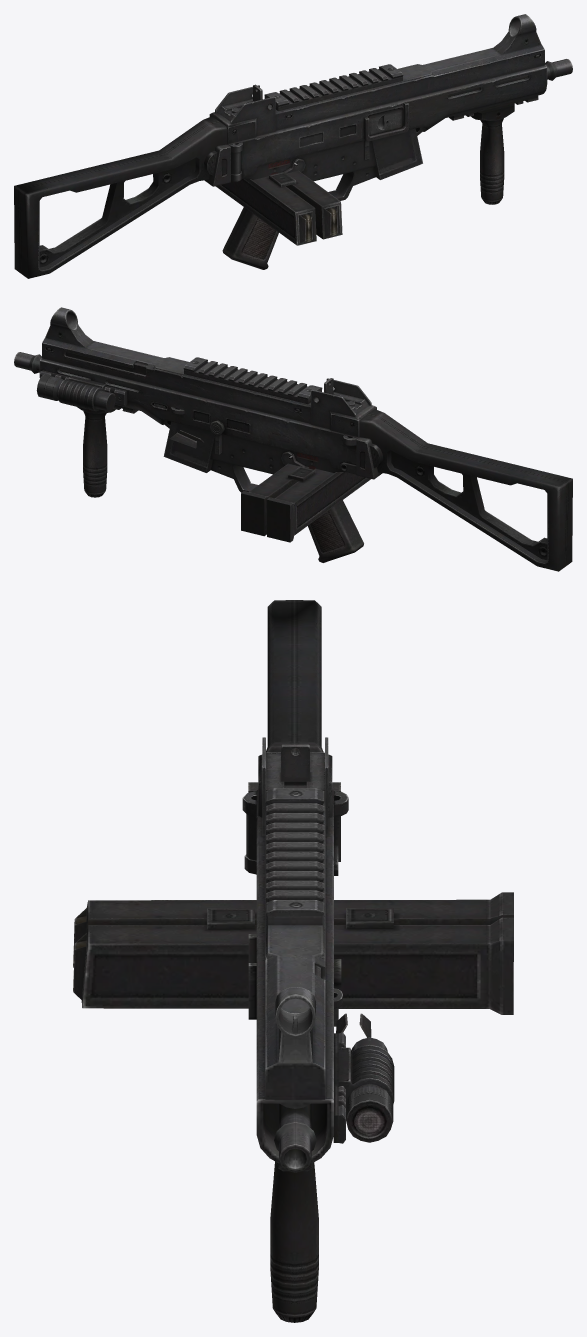
The model's file is UMP45_DualMag.obj.
3 renders of one model, top to bottom at view 1: azimuth 30°, elevation 25°; view 2: azimuth 150°, elevation 25°; view 3: azimuth 270°, elevation 25°, orthographic. The views are drawn at different scales.
Parts seen in each view (by area): view 1: Model_UMP45, Model_Bullet01,Model_Bullet02,Model_Magazine; view 2: Model_UMP45, Model_Bullet01,Model_Bullet02,Model_Magazine; view 3: Model_UMP45, Model_Bullet01,Model_Bullet02,Model_Magazine.
Part boxes in pixels (box(x1,y1,x2,y2)): Model_UMP45: box(14, 14, 572, 278); Model_Bullet01,Model_Bullet02,Model_Magazine: box(216, 170, 342, 245); Model_UMP45: box(14, 307, 572, 571); Model_Bullet01,Model_Bullet02,Model_Magazine: box(241, 463, 370, 542); Model_UMP45: box(242, 600, 394, 1322); Model_Bullet01,Model_Bullet02,Model_Magazine: box(73, 892, 513, 1014).
Bounding box in the file's own units: 0.6812 × 0.221 × 0.2366.
1 material, 1 textured.
